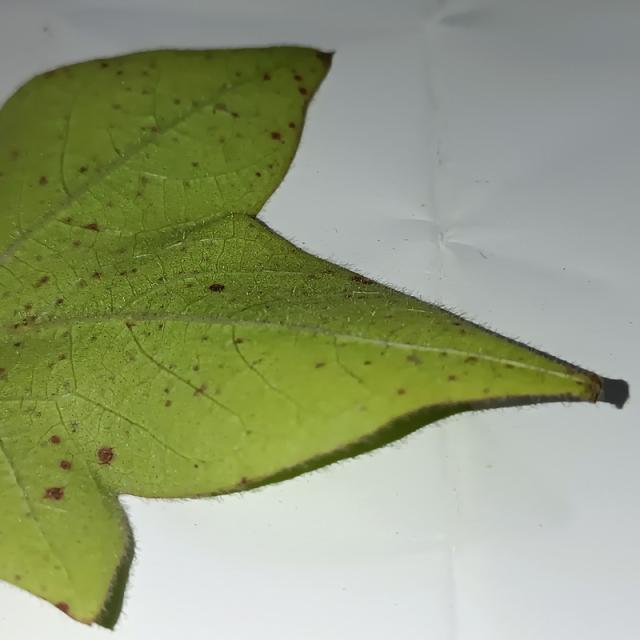Bacterial_Blight: (599, 377, 631, 409), (199, 274, 227, 299), (98, 440, 125, 465), (43, 486, 65, 501), (352, 275, 374, 286), (34, 275, 50, 288), (55, 602, 69, 614), (406, 354, 421, 365), (83, 222, 99, 232), (59, 459, 72, 471), (464, 356, 479, 365), (193, 384, 204, 396), (49, 435, 61, 445), (320, 269, 334, 277), (214, 103, 227, 111), (38, 176, 48, 186), (125, 321, 136, 330), (270, 131, 281, 140), (11, 150, 20, 161), (140, 175, 149, 185), (91, 271, 102, 279), (55, 298, 64, 307), (78, 166, 88, 174), (72, 240, 82, 248), (315, 362, 326, 369), (298, 87, 307, 95), (262, 73, 271, 81), (575, 379, 584, 387), (58, 354, 67, 362), (234, 337, 244, 344), (448, 374, 458, 381), (293, 75, 303, 82), (192, 364, 200, 372), (396, 388, 405, 395), (150, 126, 159, 133), (165, 399, 172, 408), (288, 122, 296, 129), (191, 161, 199, 168), (163, 387, 170, 394), (363, 360, 371, 365)
Cotton: (0, 47, 626, 622)
